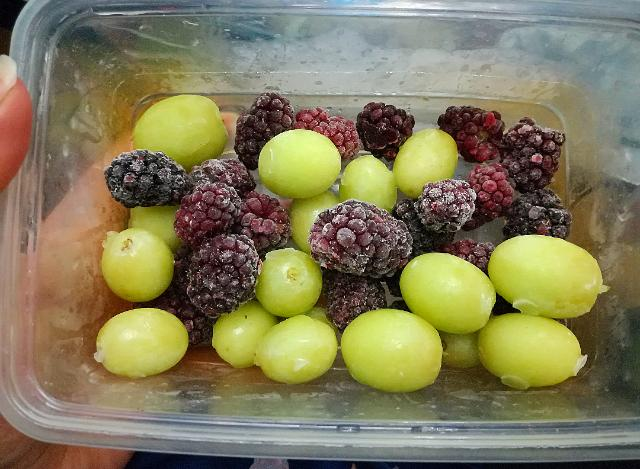Grapes: (489, 234, 603, 318), (342, 308, 441, 392), (398, 253, 494, 335), (478, 316, 584, 390), (132, 96, 228, 168), (98, 306, 188, 382), (100, 226, 174, 304), (256, 129, 342, 195), (257, 315, 337, 385), (260, 247, 322, 318), (394, 129, 458, 195), (213, 302, 269, 368), (339, 153, 395, 214)
